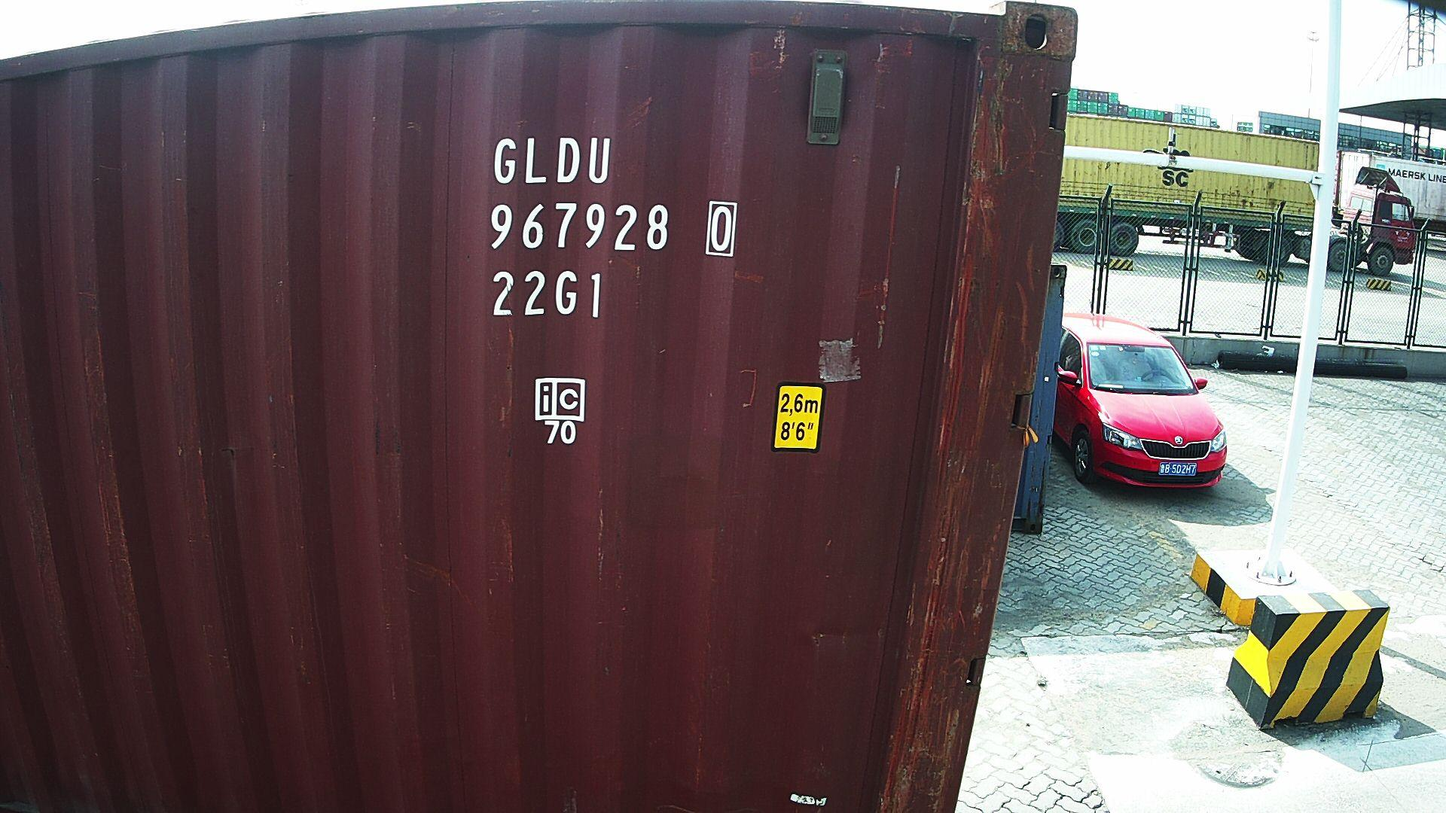container-numbers: (484, 197, 740, 257), (487, 133, 615, 189), (487, 267, 609, 321)
